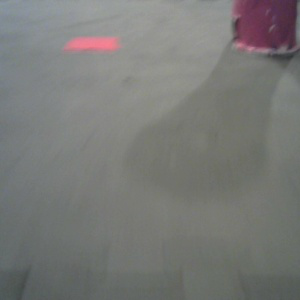right: (232, 1, 300, 57)
